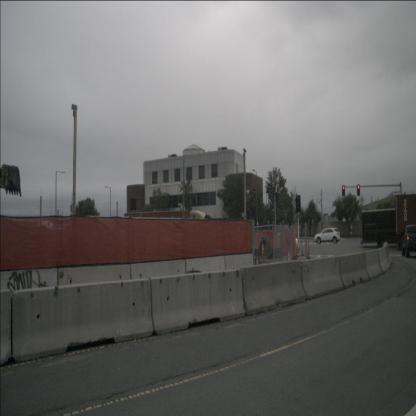barrier: (12, 277, 154, 363), (150, 268, 246, 336), (58, 264, 132, 314), (241, 260, 307, 316), (0, 267, 58, 321), (131, 259, 185, 302), (300, 256, 345, 300), (186, 255, 226, 297), (338, 253, 370, 290), (224, 253, 254, 292), (1, 290, 12, 367), (363, 249, 383, 280), (377, 246, 390, 274), (383, 241, 393, 267)
cone: (66, 274, 74, 317), (254, 253, 260, 276), (306, 237, 311, 260), (286, 247, 292, 265), (261, 236, 265, 256), (300, 238, 304, 256)
